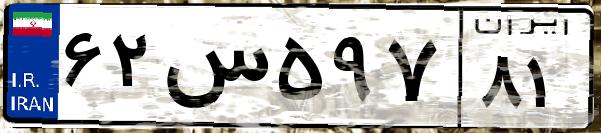1: (525, 38, 570, 115)
2: (110, 28, 158, 98)
5: (270, 28, 330, 110)
6: (57, 26, 110, 100)
7: (385, 28, 445, 110)
8: (475, 38, 525, 113)
9: (330, 28, 385, 110)
س: (158, 20, 270, 120)
